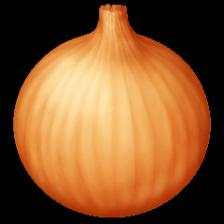onion: (12, 4, 211, 218)
